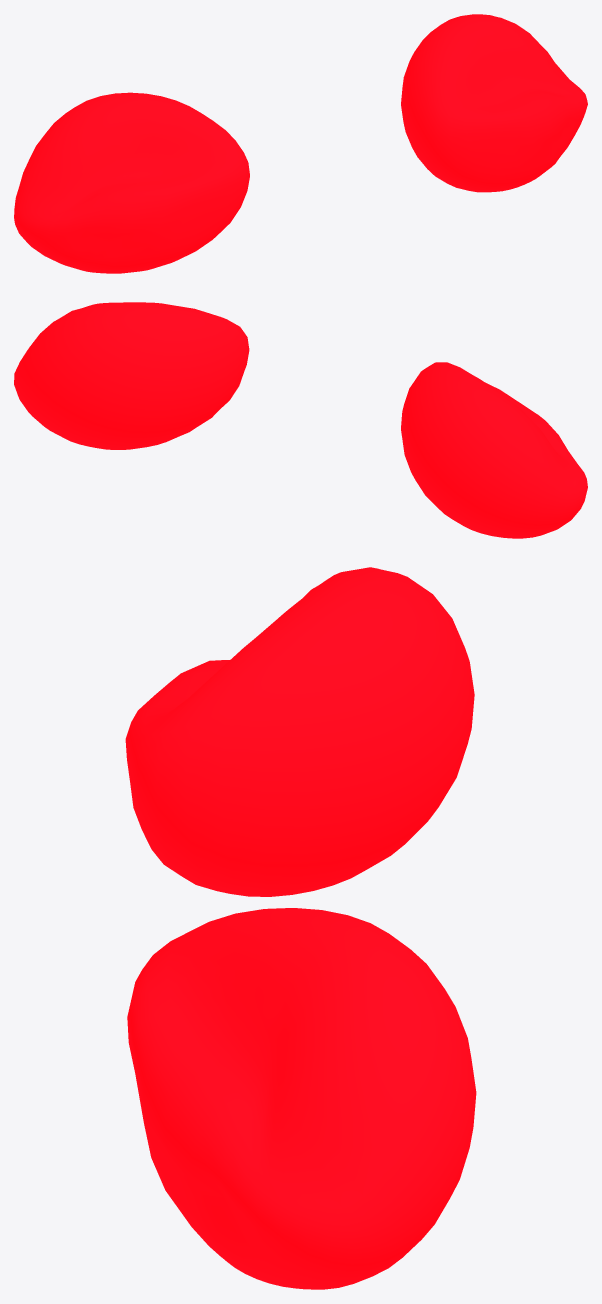
File: Zombie-Red.glb
The picture shows the model from 3 angles, top to bottom: view 1: azimuth 30°, elevation 25°; view 2: azimuth 150°, elevation 25°; view 3: azimuth 270°, elevation 25°; orthographic projection. The views are drawn at different scales.
Parts seen in each view (by area): view 1: Sphere.001; view 2: Sphere.001; view 3: Sphere.001.
Boxes of the visible parts, left/top/right/bottom form: Sphere.001: left=14, top=14, right=587, bottom=273; Sphere.001: left=14, top=302, right=587, bottom=538; Sphere.001: left=125, top=567, right=476, bottom=1289.
Bounding box in the file's own units: 0.3788 × 0.1042 × 0.1024.
